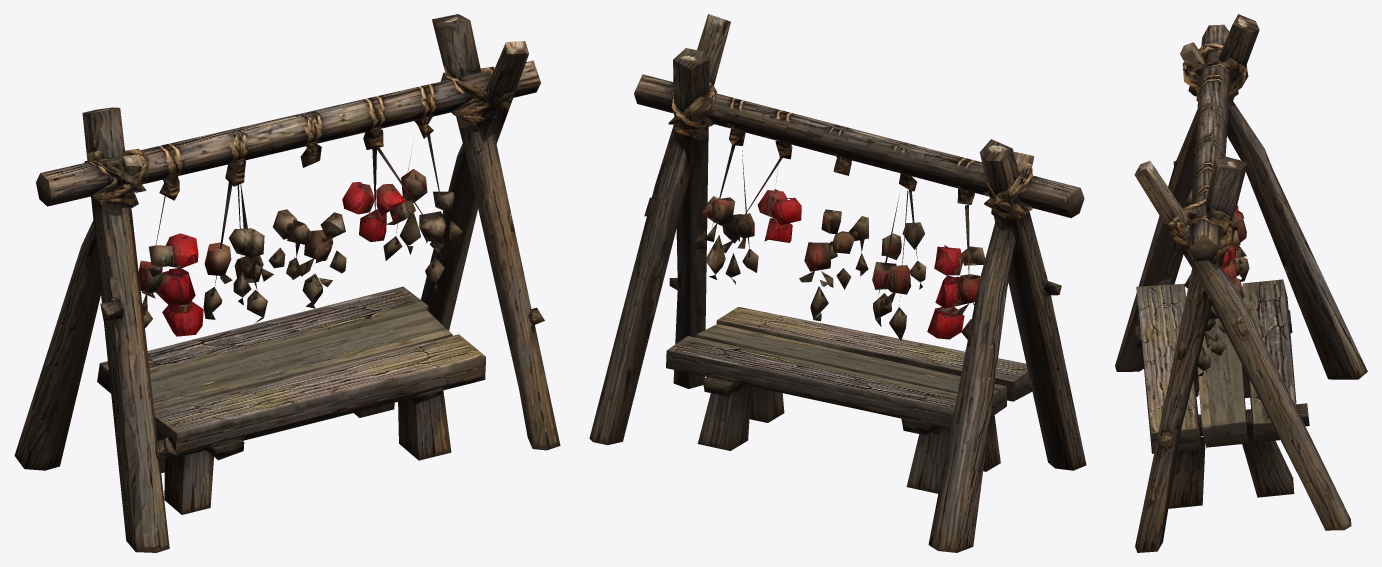
The model's file is act1_kit_v1_poppy_rack.glb.
3 renders of one model, left to right at view 1: azimuth 30°, elevation 25°; view 2: azimuth 150°, elevation 25°; view 3: azimuth 270°, elevation 25°, orthographic. The views are drawn at different scales.
Parts seen in each view (by area): view 1: A08_6_poppy_rack; view 2: A08_6_poppy_rack; view 3: A08_6_poppy_rack.
Boxes of the visible parts, bbox=[...] form: A08_6_poppy_rack: bbox=[14, 14, 560, 552]; A08_6_poppy_rack: bbox=[589, 14, 1086, 552]; A08_6_poppy_rack: bbox=[1115, 14, 1367, 552].
Size of the model in its own units: 1 by 0.8137 by 0.5006.
Materials: 1 (1 with a texture image).
